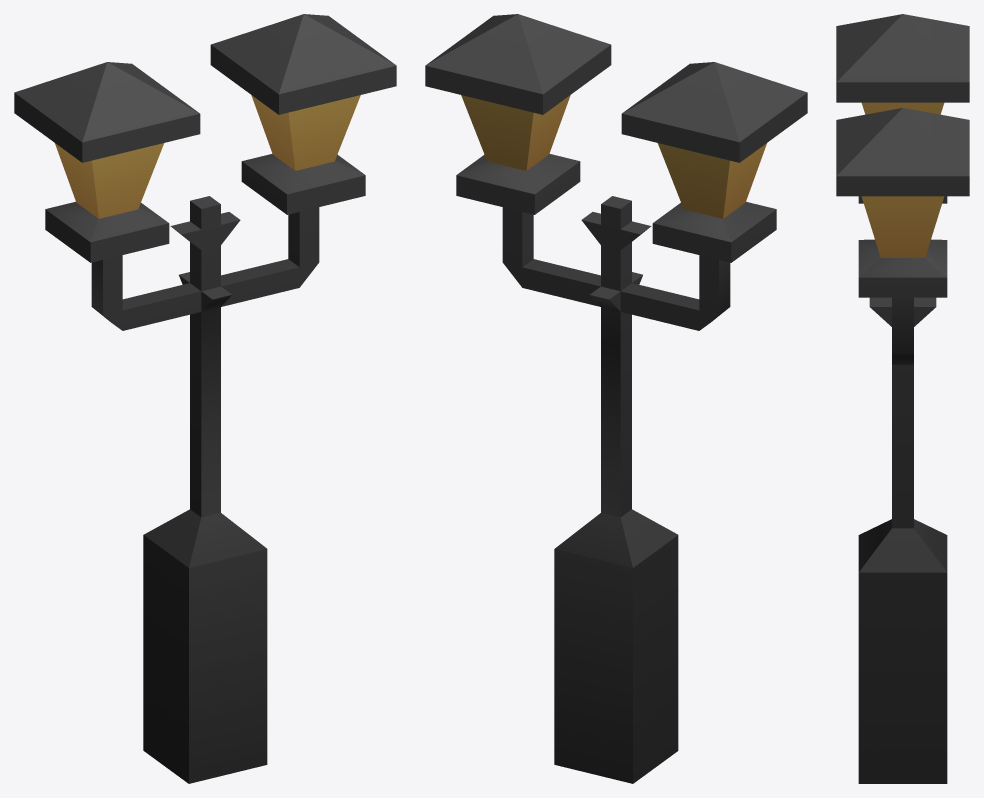
The model's file is streetlight_old_double.glb.
3 views of the same model, side by side, from view 1: azimuth 30°, elevation 25°; view 2: azimuth 150°, elevation 25°; view 3: azimuth 270°, elevation 25° (orthographic). The views are drawn at different scales.
Parts seen in each view (by area): view 1: streetlight_old_double; view 2: streetlight_old_double; view 3: streetlight_old_double.
Boxes of the visible parts, x1,y1,x2,y2 form: streetlight_old_double: [14, 14, 396, 783]; streetlight_old_double: [425, 14, 807, 783]; streetlight_old_double: [836, 14, 969, 783].
Size of the model in its own units: 0.32 by 0.7 by 0.12.
1 material, 1 textured.
